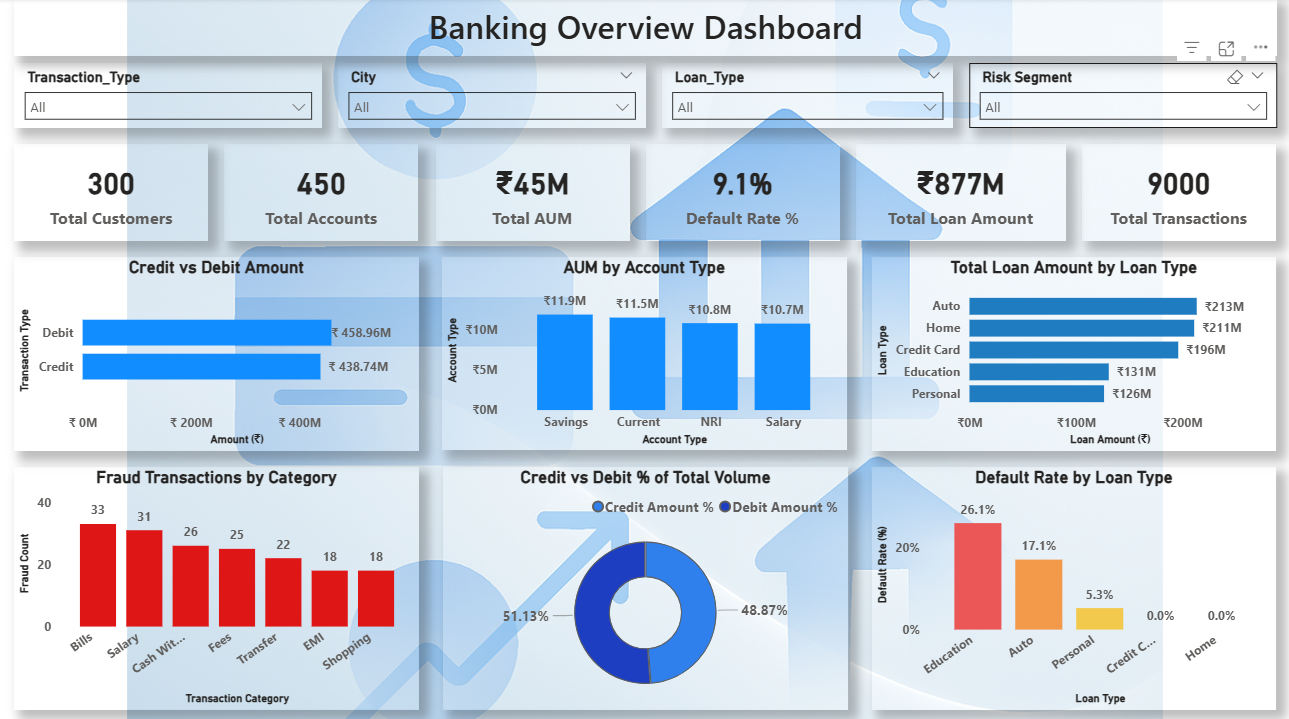

The page's visual inventory and layout, read from the dashboard file:
{"tool":"powerbi","page":{"name":"Page 1","canvas":[1280,720],"ordinal":0},"visuals":[{"type":"textbox","box":[16.2,0,1248.9,57.2],"z":0},{"type":"clusteredBarChart","title":"Credit vs Debit Amount","fields":{"Y":["All_measures.Credit Debit Selector"],"Category":["transactions_table.Transaction_Type"]},"box":[16,256,400,192],"z":1000},{"type":"clusteredColumnChart","title":"AUM by Account Type","fields":{"Category":["accounts_table.Account_Type"],"Y":["All_measures.Total AUM"]},"box":[439.1,256.3,400.6,191.6],"z":2000},{"type":"clusteredBarChart","title":"Total Loan Amount by Loan Type","fields":{"Category":["loans_table.Loan_Type"],"Y":["All_measures.Total Loan Amount"]},"box":[864,256,400,192],"z":3000},{"type":"donutChart","title":"Credit vs Debit % of Total Volume","fields":{"Y":["All_measures.Credit Amount %","All_measures.Debit Amount %"]},"box":[440.4,464,400.6,240.1],"z":4000},{"type":"clusteredColumnChart","title":"Fraud Transactions by Category","fields":{"Y":["All_measures.Fraud Transaction"],"Category":["transactions_table.Category"]},"box":[16,464,400,240],"z":5000},{"type":"slicer","fields":{"Values":["customers_table.City"]},"box":[16,63.8,304.3,63.8],"z":6000},{"type":"slicer","fields":{"Values":["customers_table.Risk_Segment"]},"box":[336.2,63.8,304.3,63.8],"z":7000},{"type":"slicer","fields":{"Values":["loans_table.Loan_Type"]},"box":[656.4,63.8,287.1,63.8],"z":8000},{"type":"slicer","title":"Transaction Type","fields":{"Values":["transactions_table.Transaction_Type"]},"box":[959.5,63.8,304.3,63.8],"z":9000},{"type":"card","fields":{"Values":["All_measures.Total Customers"]},"box":[16,144,192,96],"z":10000},{"type":"card","fields":{"Values":["All_measures.Total Accounts"]},"box":[224,144,192,96],"z":11000},{"type":"card","fields":{"Values":["All_measures.Total AUM"]},"box":[432,144,192,96],"z":12000},{"type":"card","fields":{"Values":["All_measures.Default Rate %"]},"box":[640,144,192,96],"z":13000},{"type":"card","fields":{"Values":["All_measures.Total Loan Amount"]},"box":[848,144,208,96],"z":14000},{"type":"card","fields":{"Values":["All_measures.Total Transactions"]},"box":[1072,144,192,96],"z":15000},{"type":"clusteredColumnChart","title":"Default Rate by Loan Type","fields":{"Category":["loans_table.Loan_Type"],"Y":["All_measures.Default Rate %"]},"box":[864,464,400,240],"z":16000}]}

Visuals, with their boxes in screenshot pixels (x1, y1, x2, y2), scaled from the page's 1280x720 canvas onto the 1289x719 screenshot:
textbox: x1=16, y1=0, x2=1274, y2=57
"Credit vs Debit Amount" clusteredBarChart: x1=16, y1=256, x2=419, y2=447
"AUM by Account Type" clusteredColumnChart: x1=442, y1=256, x2=846, y2=447
"Total Loan Amount by Loan Type" clusteredBarChart: x1=870, y1=256, x2=1273, y2=447
"Credit vs Debit % of Total Volume" donutChart: x1=443, y1=463, x2=847, y2=703
"Fraud Transactions by Category" clusteredColumnChart: x1=16, y1=463, x2=419, y2=703
slicer - customers_table.City: x1=16, y1=64, x2=323, y2=127
slicer - customers_table.Risk_Segment: x1=339, y1=64, x2=645, y2=127
slicer - loans_table.Loan_Type: x1=661, y1=64, x2=950, y2=127
"Transaction Type" slicer: x1=966, y1=64, x2=1273, y2=127
card - All_measures.Total Customers: x1=16, y1=144, x2=209, y2=240
card - All_measures.Total Accounts: x1=226, y1=144, x2=419, y2=240
card - All_measures.Total AUM: x1=435, y1=144, x2=628, y2=240
card - All_measures.Default Rate %: x1=644, y1=144, x2=838, y2=240
card - All_measures.Total Loan Amount: x1=854, y1=144, x2=1063, y2=240
card - All_measures.Total Transactions: x1=1080, y1=144, x2=1273, y2=240
"Default Rate by Loan Type" clusteredColumnChart: x1=870, y1=463, x2=1273, y2=703
